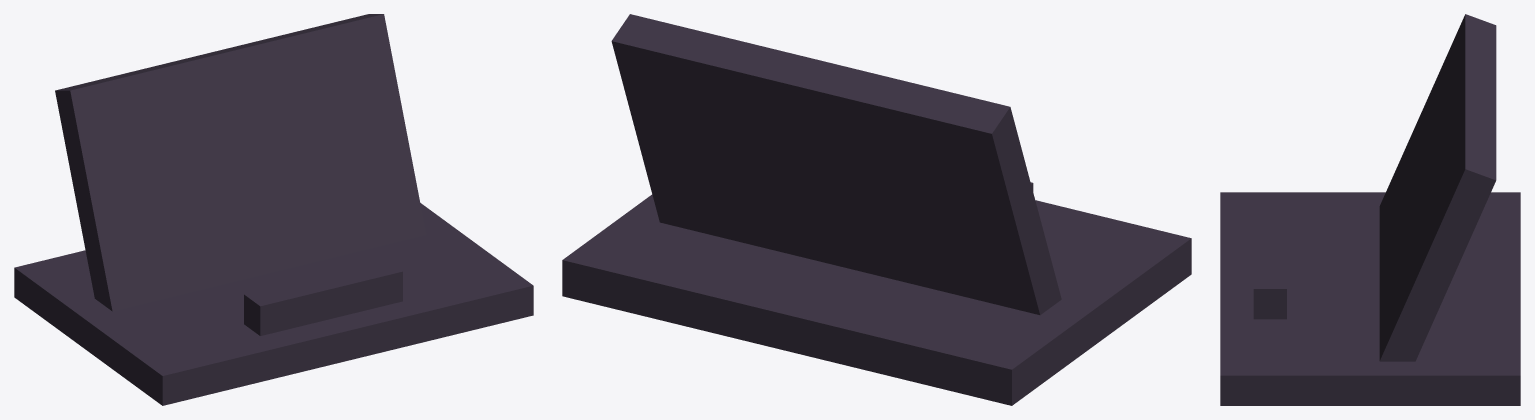
The model's file is VoxelGBBase.glb.
3 views of the same model, side by side, from view 1: azimuth 30°, elevation 25°; view 2: azimuth 150°, elevation 25°; view 3: azimuth 270°, elevation 25° (orthographic). The views are drawn at different scales.
Visible parts, largest first — view 1: GB_Base; view 2: GB_Base; view 3: GB_Base.
Boxes of the visible parts, x1,y1,x2,y2 form: GB_Base: (14, 14, 533, 405); GB_Base: (562, 14, 1191, 405); GB_Base: (1220, 14, 1520, 405).
Bounding box in the file's own units: 0.13 × 0.0736 × 0.09.
1 material, 1 textured.
